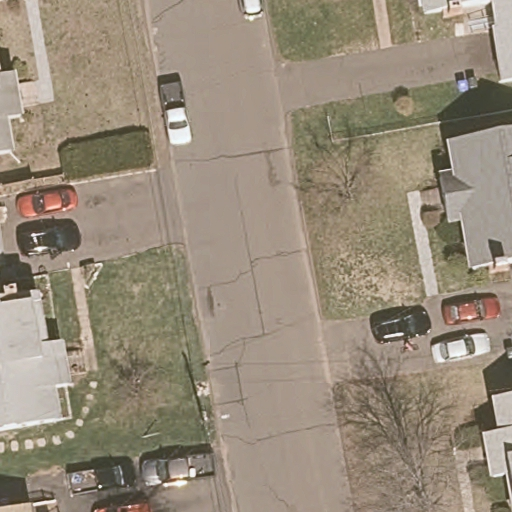DT: (192, 379, 230, 428)
